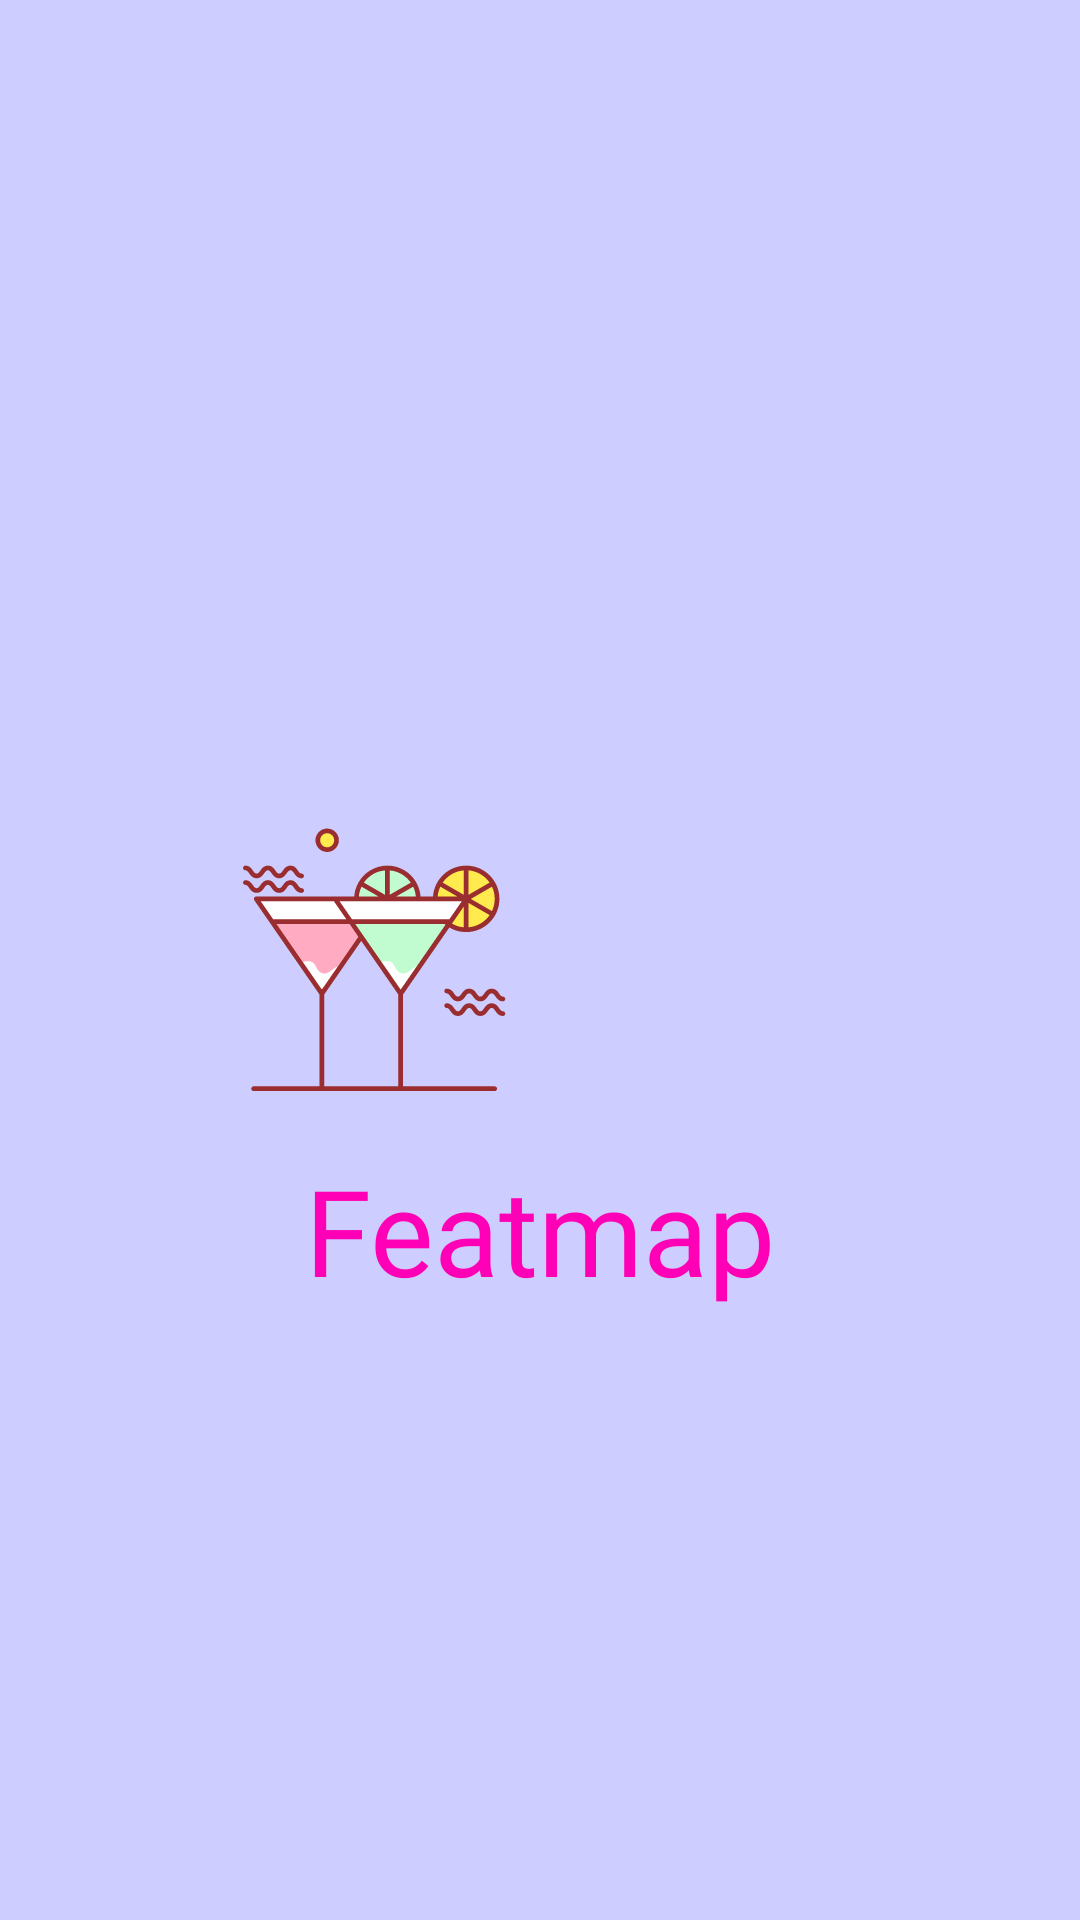

Where to tap for icons on this 1080 × 1920 app screen, as [x,y]:
cocktail: [374,959]
